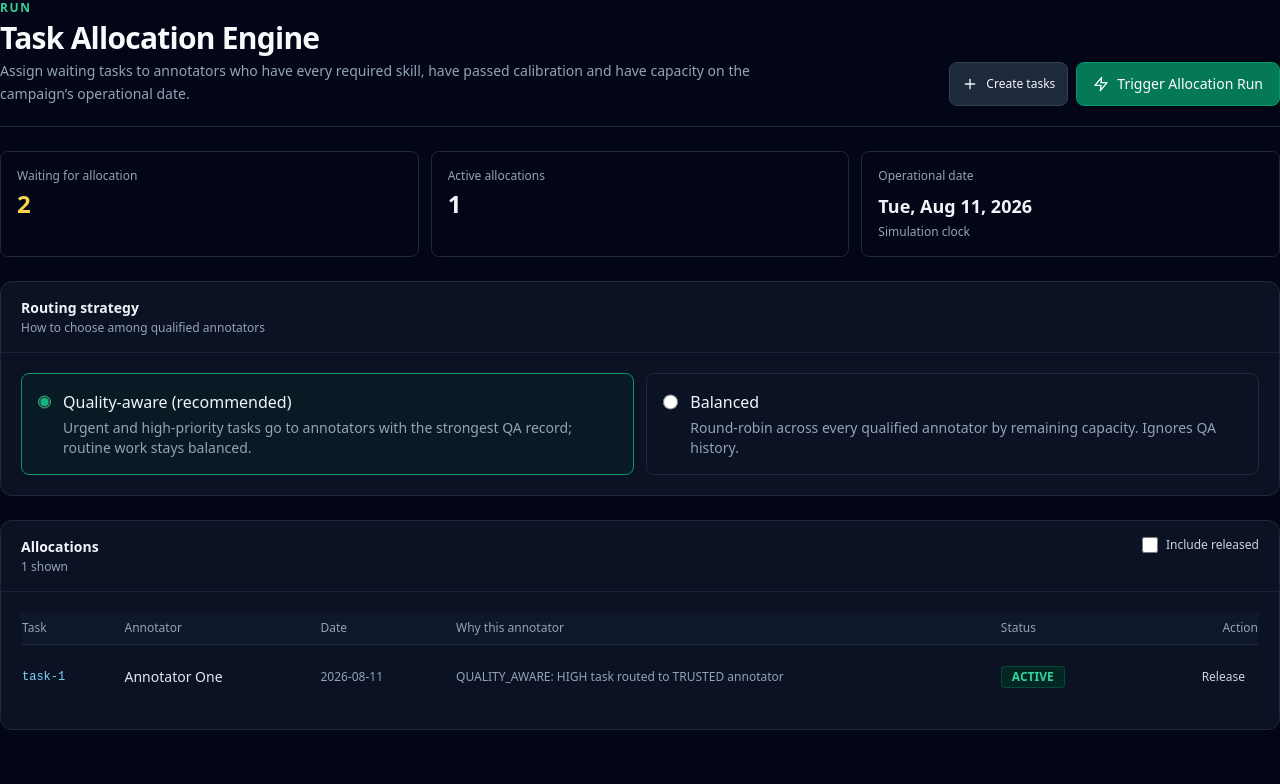
Scenario: AllocationsPage Component › runs allocation with the chosen strategy on the campaign date
expect the text "Annotator One" is shown: met, box [124,644,319,708]
Click the radio button labelled "Balanced": (671, 402) [663,394,678,410]
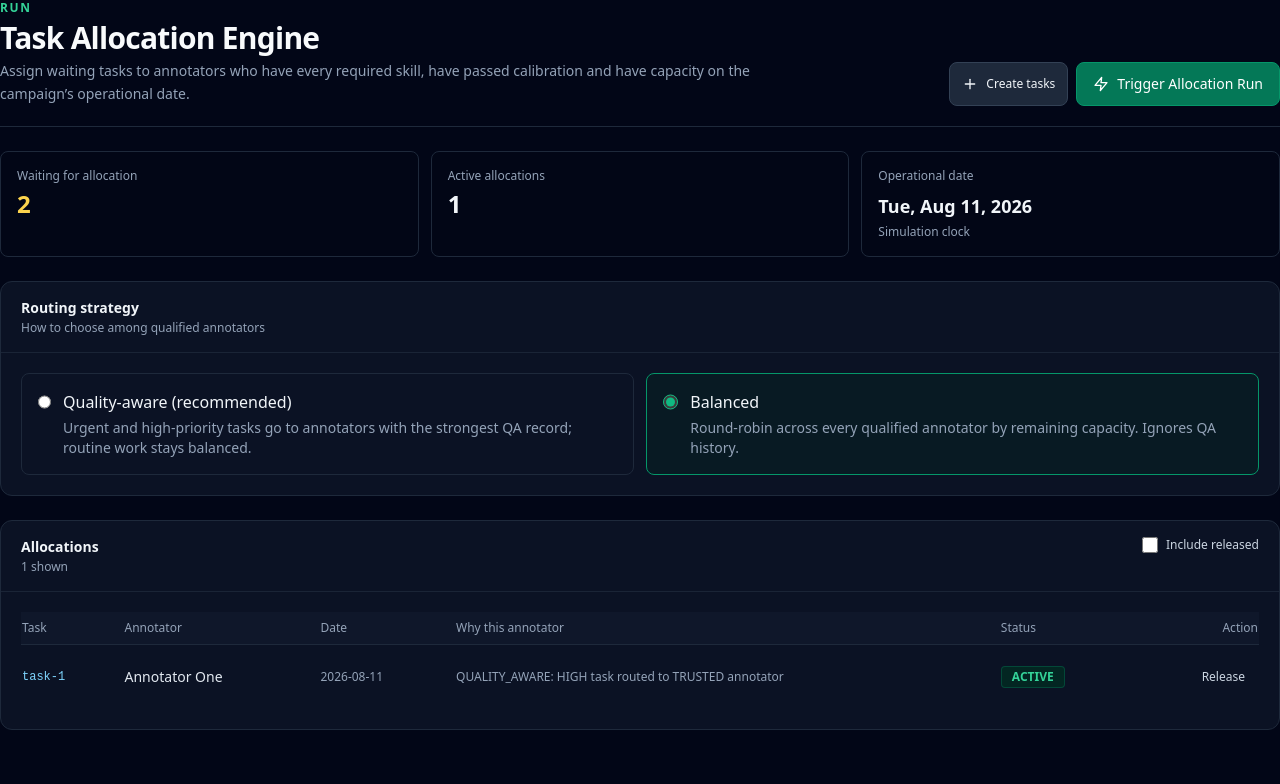
Click the button "Trigger Allocation Run": (1178, 84) [1076,62,1279,106]
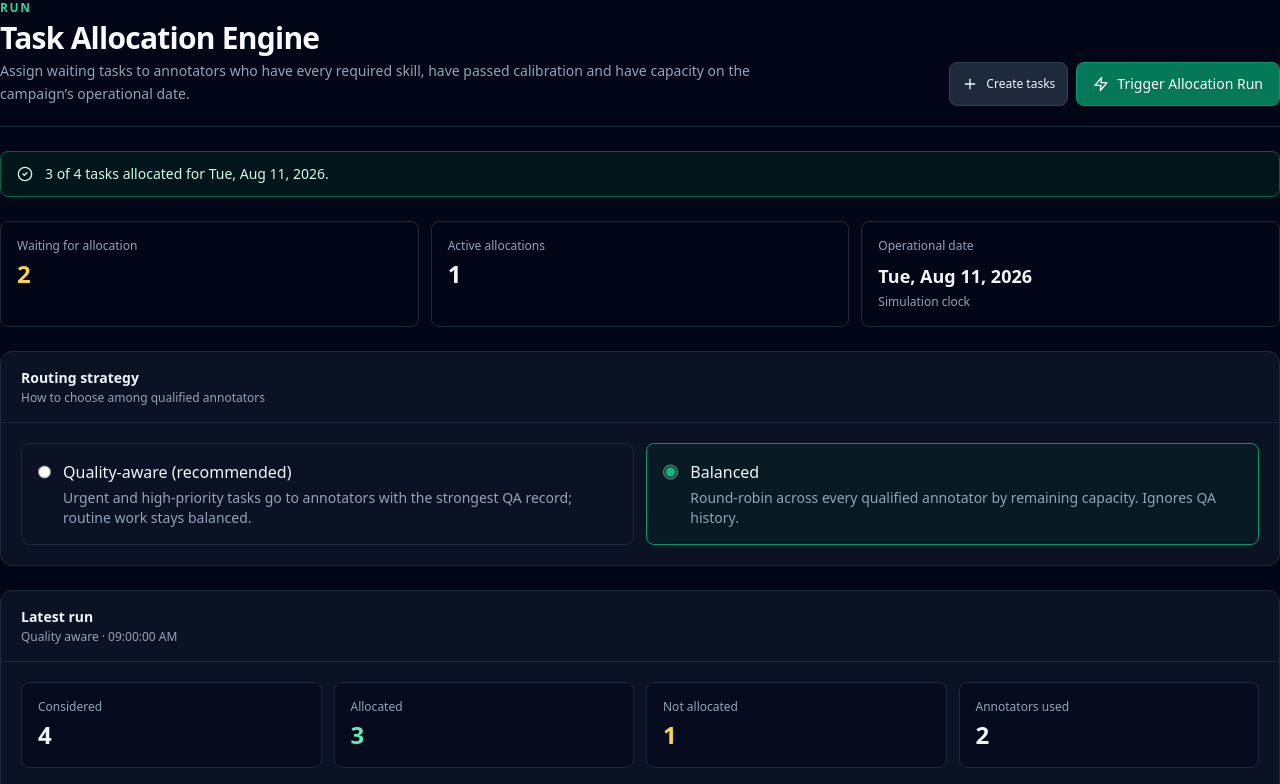
expect the text "3 of 4 tasks allocated for Tue, Aug 11, 2026." is shown: met, box [45,164,329,184]
